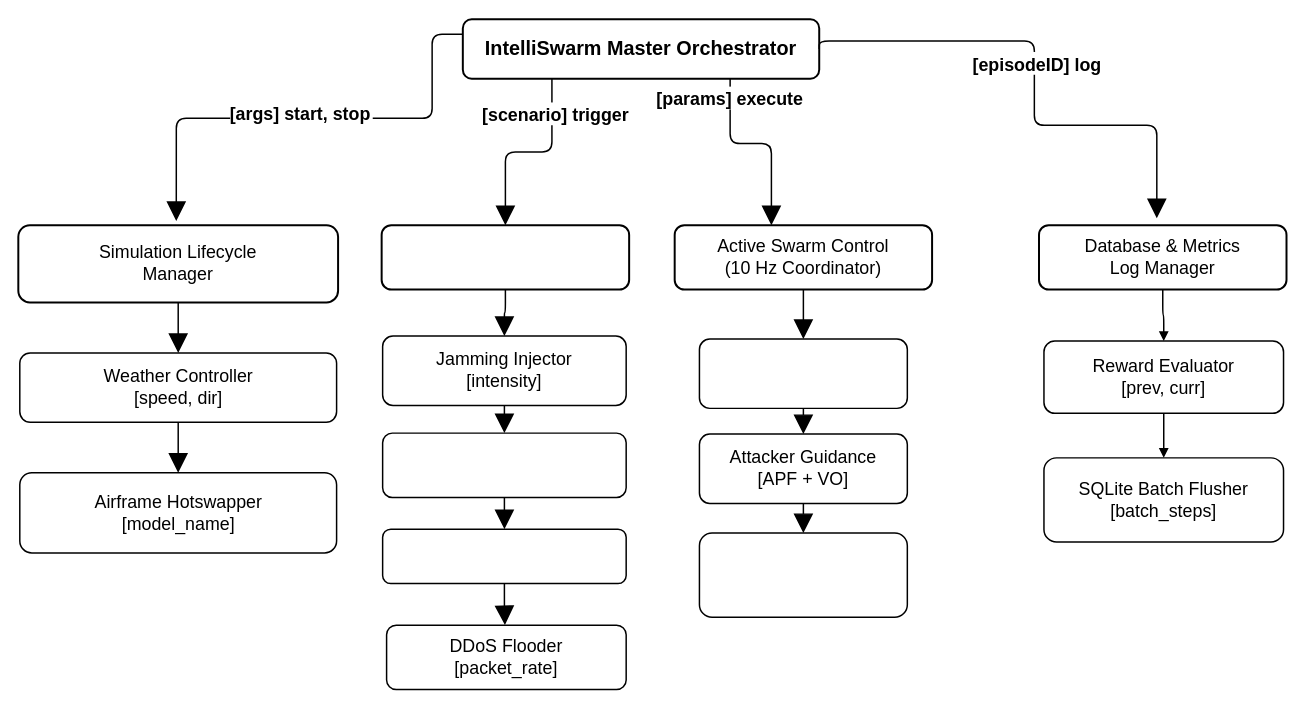
The diagram is 1304 pixels wide and 708 high, and some of its shapes have lost their labels. The box of each missing label's shape, as (x1, y1, x2, y2) in pixels:
Attack Execution Engine: (380, 224, 630, 290)
Defender Guidance [Lead-Collision]: (698, 532, 908, 618)
FDI Corruptor [fields]: (381, 528, 626, 584)
GPS Spoofer [offset]: (381, 432, 626, 498)
Sensor Fusion [raw_detections]: (698, 338, 908, 409)
